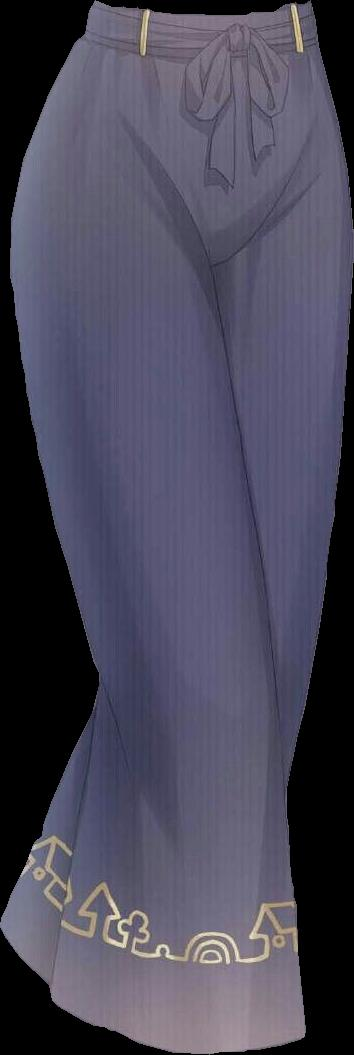Hemline: (47, 989, 310, 1054)
Pantleg: (1, 4, 353, 987), (10, 2, 305, 1052)
Waistline: (76, 32, 321, 63), (88, 0, 314, 26)
